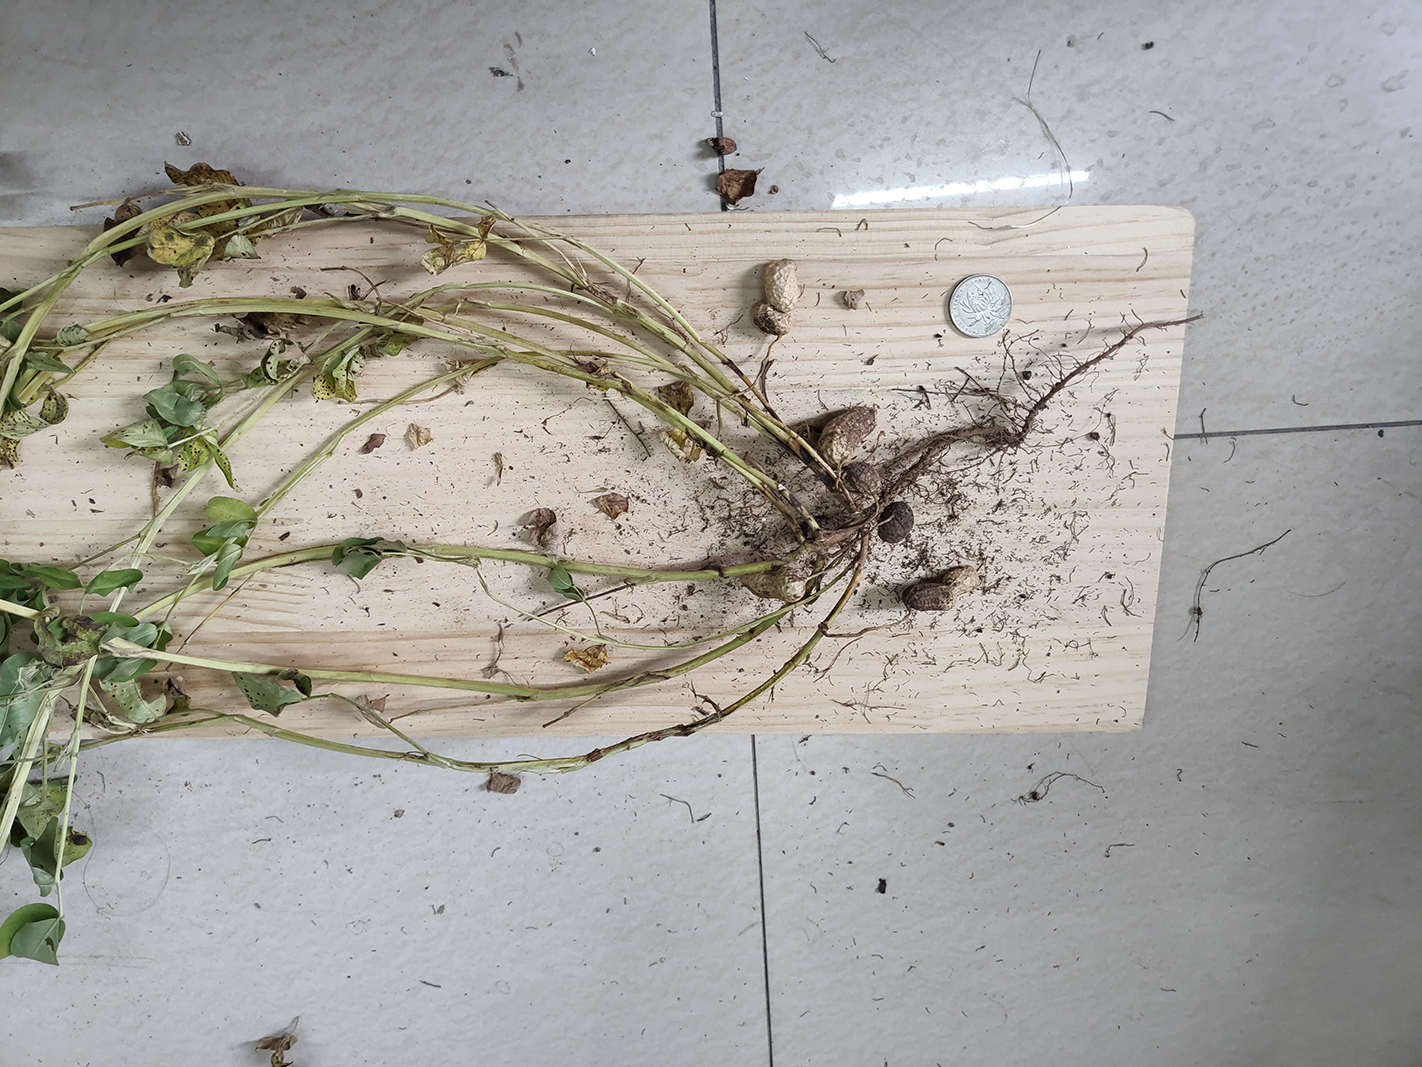h: (756, 258, 801, 337), (742, 570, 807, 602)
l: (819, 406, 879, 463), (904, 567, 974, 609), (875, 502, 914, 544), (846, 464, 880, 497)
